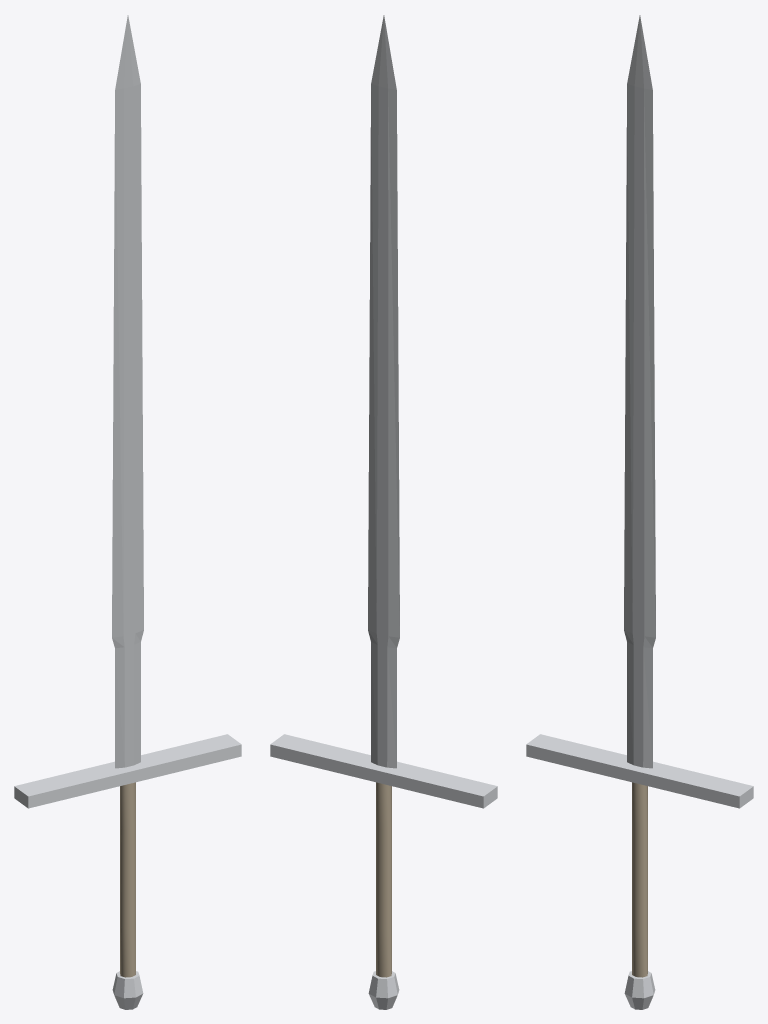
File: asset.glb
3 views of the same model, side by side, from view 1: azimuth 30°, elevation 25°; view 2: azimuth 150°, elevation 25°; view 3: azimuth 330°, elevation 25° (orthographic).
Parts seen in each view (by area): view 1: blade, guard, grip, pommel; view 2: blade, guard, grip, pommel; view 3: blade, guard, grip, pommel.
Part boxes in pixels (left/top/right/bottom): blade: left=112, top=15, right=143, bottom=768; guard: left=14, top=734, right=241, bottom=808; grip: left=120, top=782, right=135, bottom=977; pommel: left=112, top=971, right=143, bottom=1009; blade: left=368, top=15, right=399, bottom=768; guard: left=270, top=734, right=497, bottom=808; grip: left=376, top=782, right=391, bottom=977; pommel: left=368, top=971, right=399, bottom=1009; blade: left=624, top=15, right=655, bottom=768; guard: left=526, top=734, right=753, bottom=808; grip: left=632, top=782, right=647, bottom=977; pommel: left=624, top=971, right=655, bottom=1009.
Size of the model in its own units: 0.3603 by 1.6 by 0.0465.
